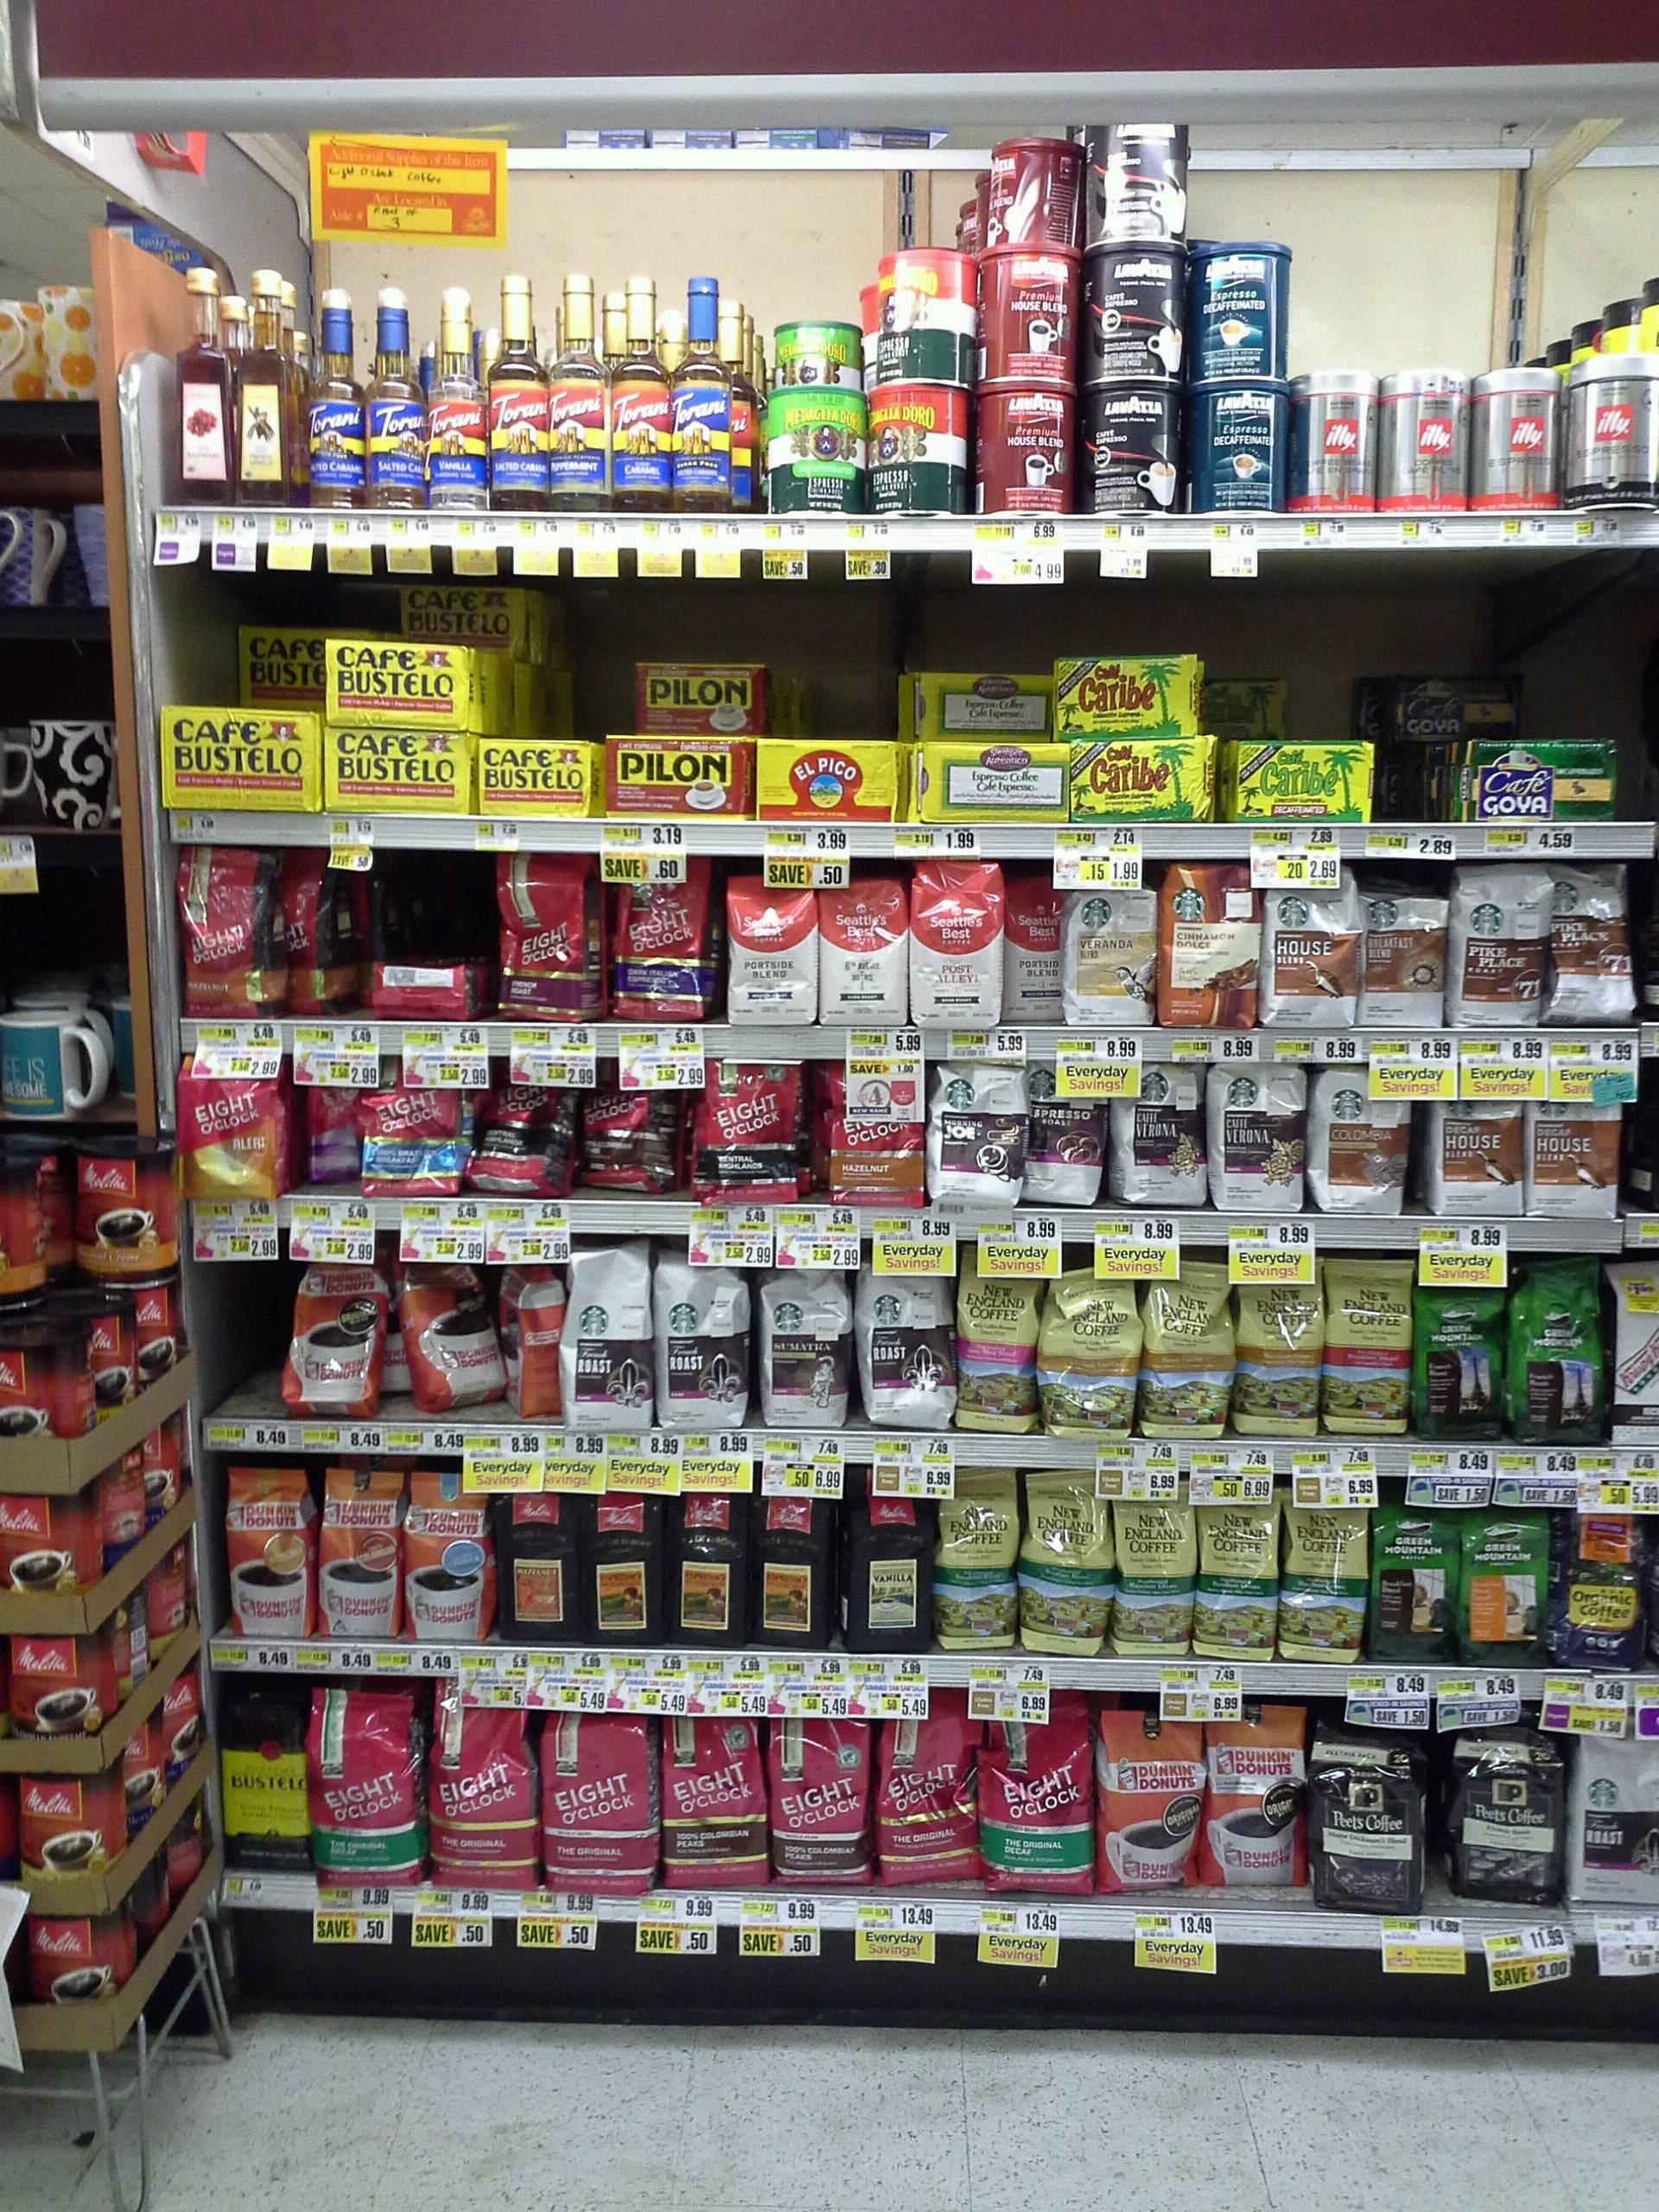empty: (214, 1266, 279, 1406)
misalignment: (1370, 685, 1628, 817), (392, 1254, 558, 1423), (364, 944, 498, 1015)
